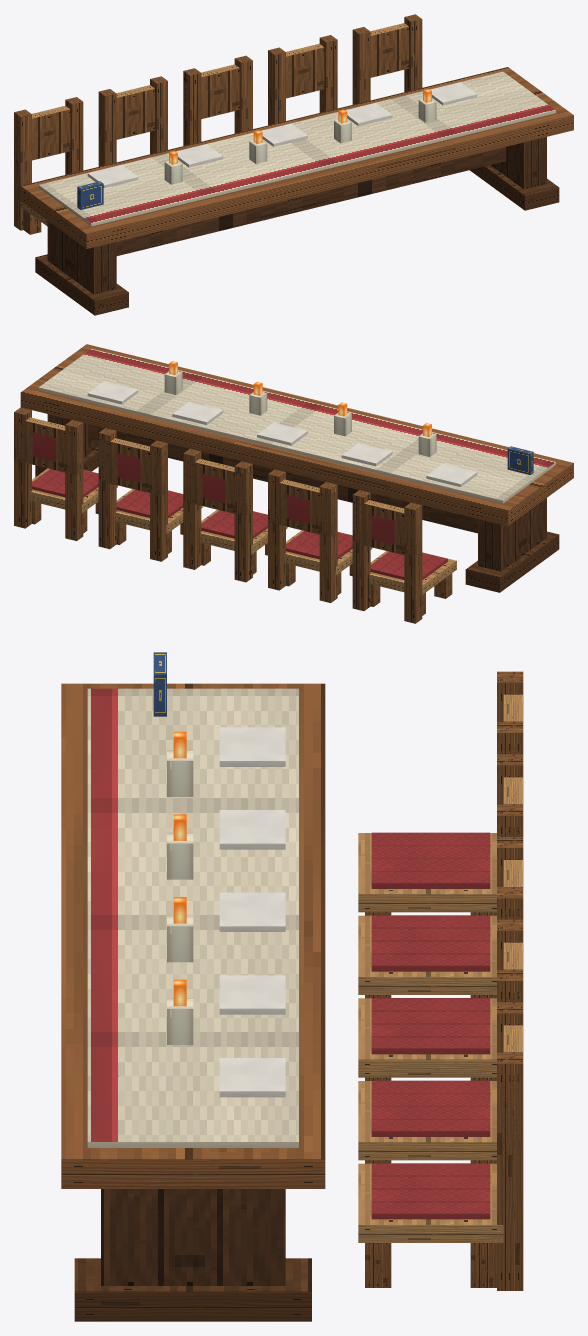
The model's file is table_group_5.glb.
3 renders of one model, top to bottom at view 1: azimuth 30°, elevation 25°; view 2: azimuth 150°, elevation 25°; view 3: azimuth 270°, elevation 25°, orthographic. The views are drawn at different scales.
Visible parts, largest first — view 1: root; view 2: root; view 3: root.
Boxes of the visible parts, x1,y1,x2,y2 form: root: (14, 14, 573, 315); root: (14, 344, 573, 623); root: (61, 652, 523, 1321).
Size of the model in its own units: 230 by 53.33 by 95.18.
2 materials, 2 textured.
